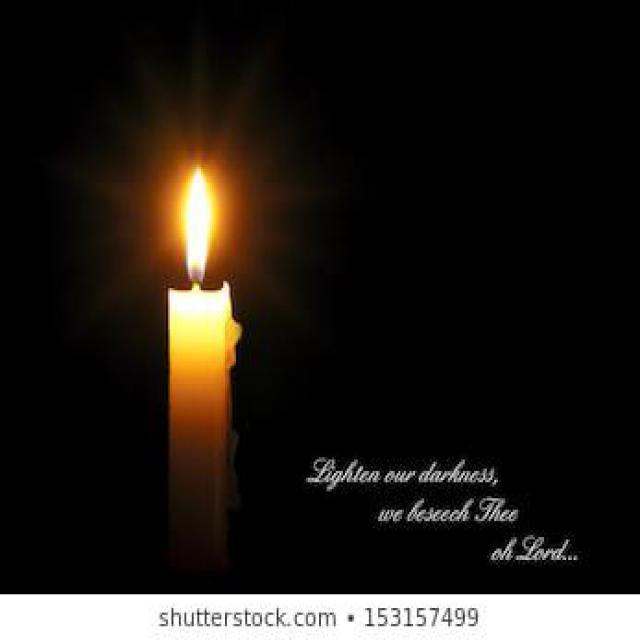Fire: (185, 165, 212, 282)
